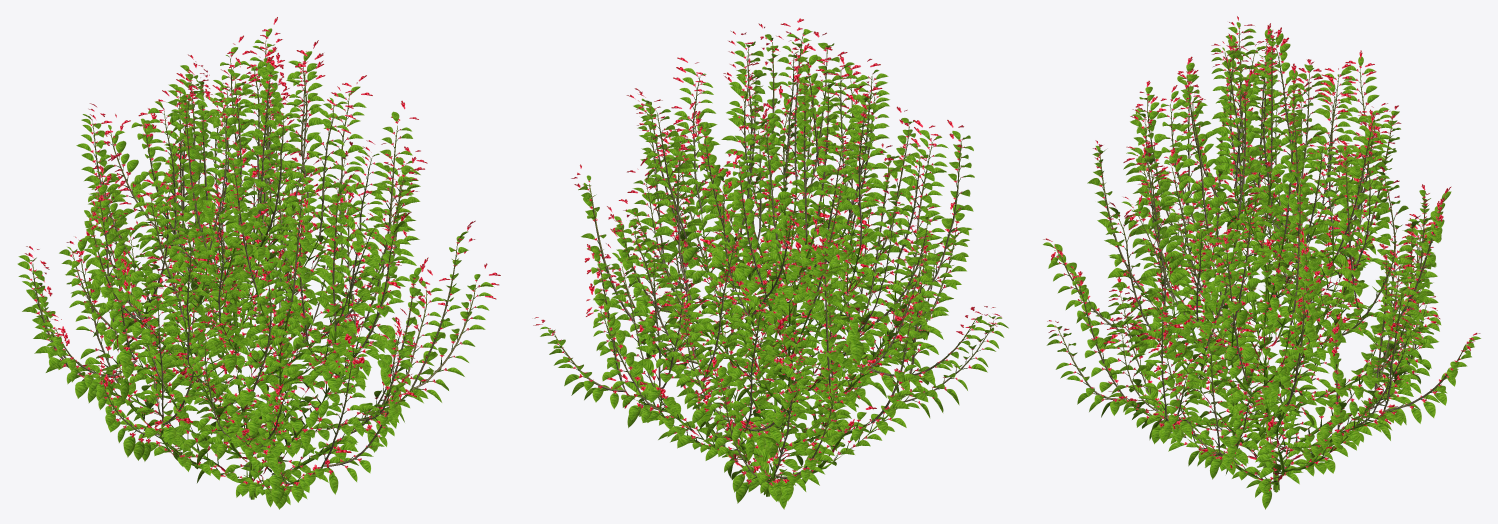
Rendered from Winterberry.glb.
3 views of the same model, side by side, from view 1: azimuth 30°, elevation 25°; view 2: azimuth 150°, elevation 25°; view 3: azimuth 270°, elevation 25° (orthographic). The views are drawn at different scales.
Visible parts, largest first — view 1: winterberry; view 2: winterberry; view 3: winterberry.
Boxes of the visible parts, box(x1,y1,x2,y2) form: winterberry: box(17, 17, 500, 509); winterberry: box(533, 18, 1008, 509); winterberry: box(1042, 16, 1481, 509).
Size of the model in its own units: 13.03 by 13.94 by 12.25.
Materials: 4 (3 with a texture image).
